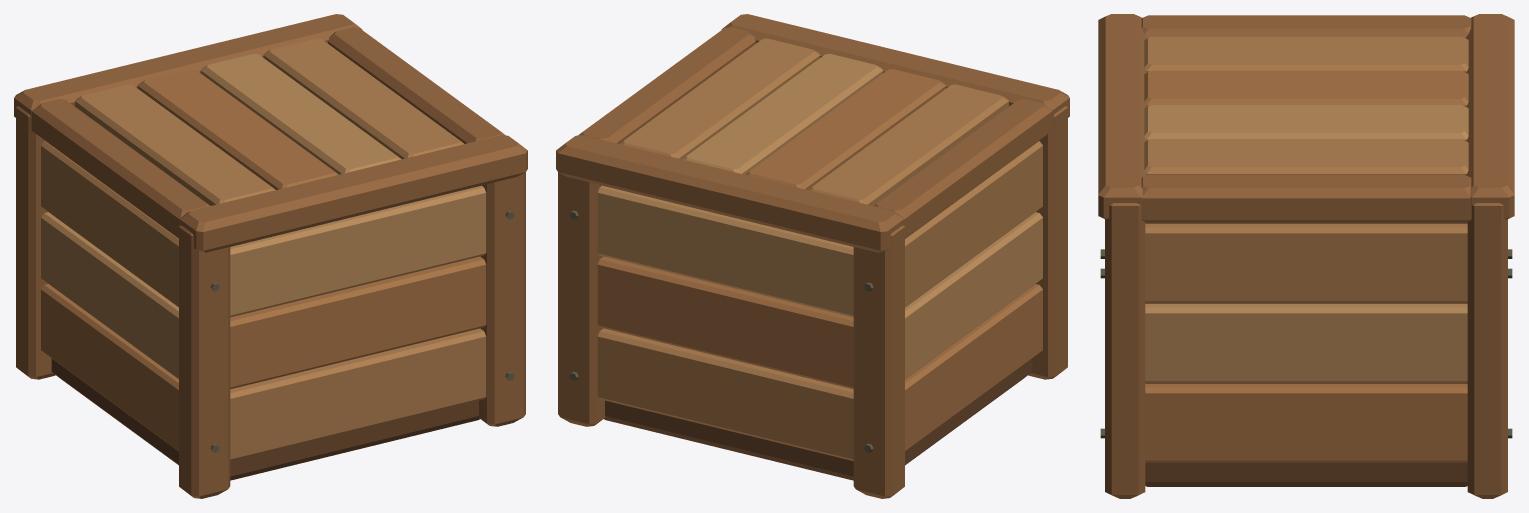
File: crate.glb
3 renders of one model, left to right at view 1: azimuth 30°, elevation 25°; view 2: azimuth 150°, elevation 25°; view 3: azimuth 270°, elevation 25°, orthographic. The views are drawn at different scales.
Visible parts, largest first — view 1: Cedar Supply Crate; view 2: Cedar Supply Crate; view 3: Cedar Supply Crate.
Boxes of the visible parts, left/top/right/bottom form: Cedar Supply Crate: left=14, top=14, right=527, bottom=498; Cedar Supply Crate: left=556, top=14, right=1069, bottom=498; Cedar Supply Crate: left=1098, top=14, right=1514, bottom=498.
Bounding box in the file's own units: 0.804 × 0.6415 × 0.779.
